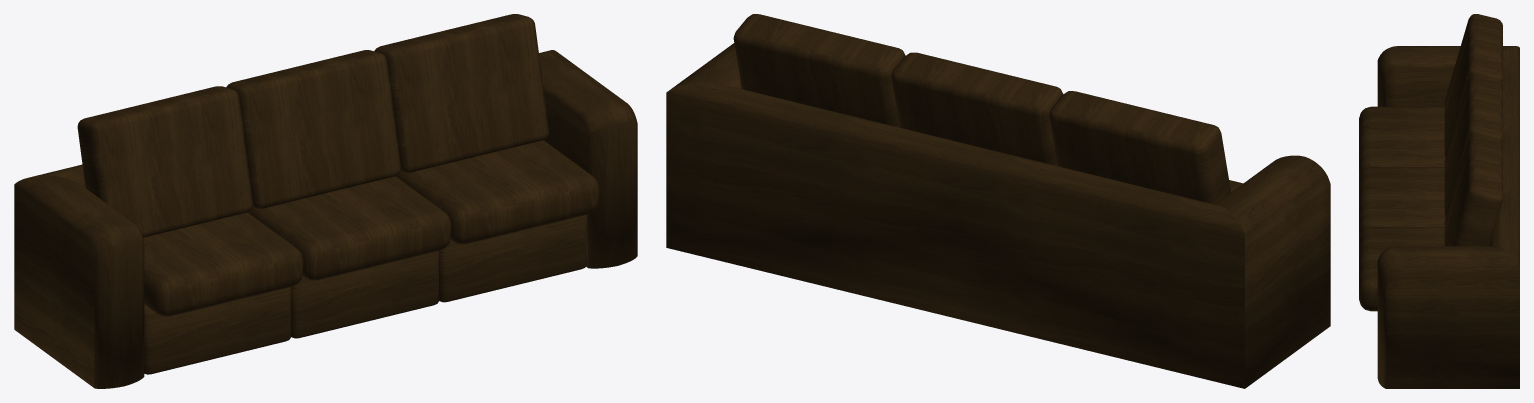
File: sofa.dae
3 views of the same model, side by side, from view 1: azimuth 30°, elevation 25°; view 2: azimuth 150°, elevation 25°; view 3: azimuth 270°, elevation 25° (orthographic). The views are drawn at different scales.
Parts seen in each view (by area): view 1: sofaa (×10); view 2: sofaa (×4); view 3: sofaa (×7).
Part boxes in pixels (box(x1,y1,x2,y2)): sofaa (×10): box(14, 14, 637, 388); sofaa (×4): box(666, 14, 1330, 388); sofaa (×7): box(1359, 14, 1519, 388).
Size of the model in its own units: 2.2 by 0.6791 by 0.8261.
Materials: 1 (1 with a texture image).
